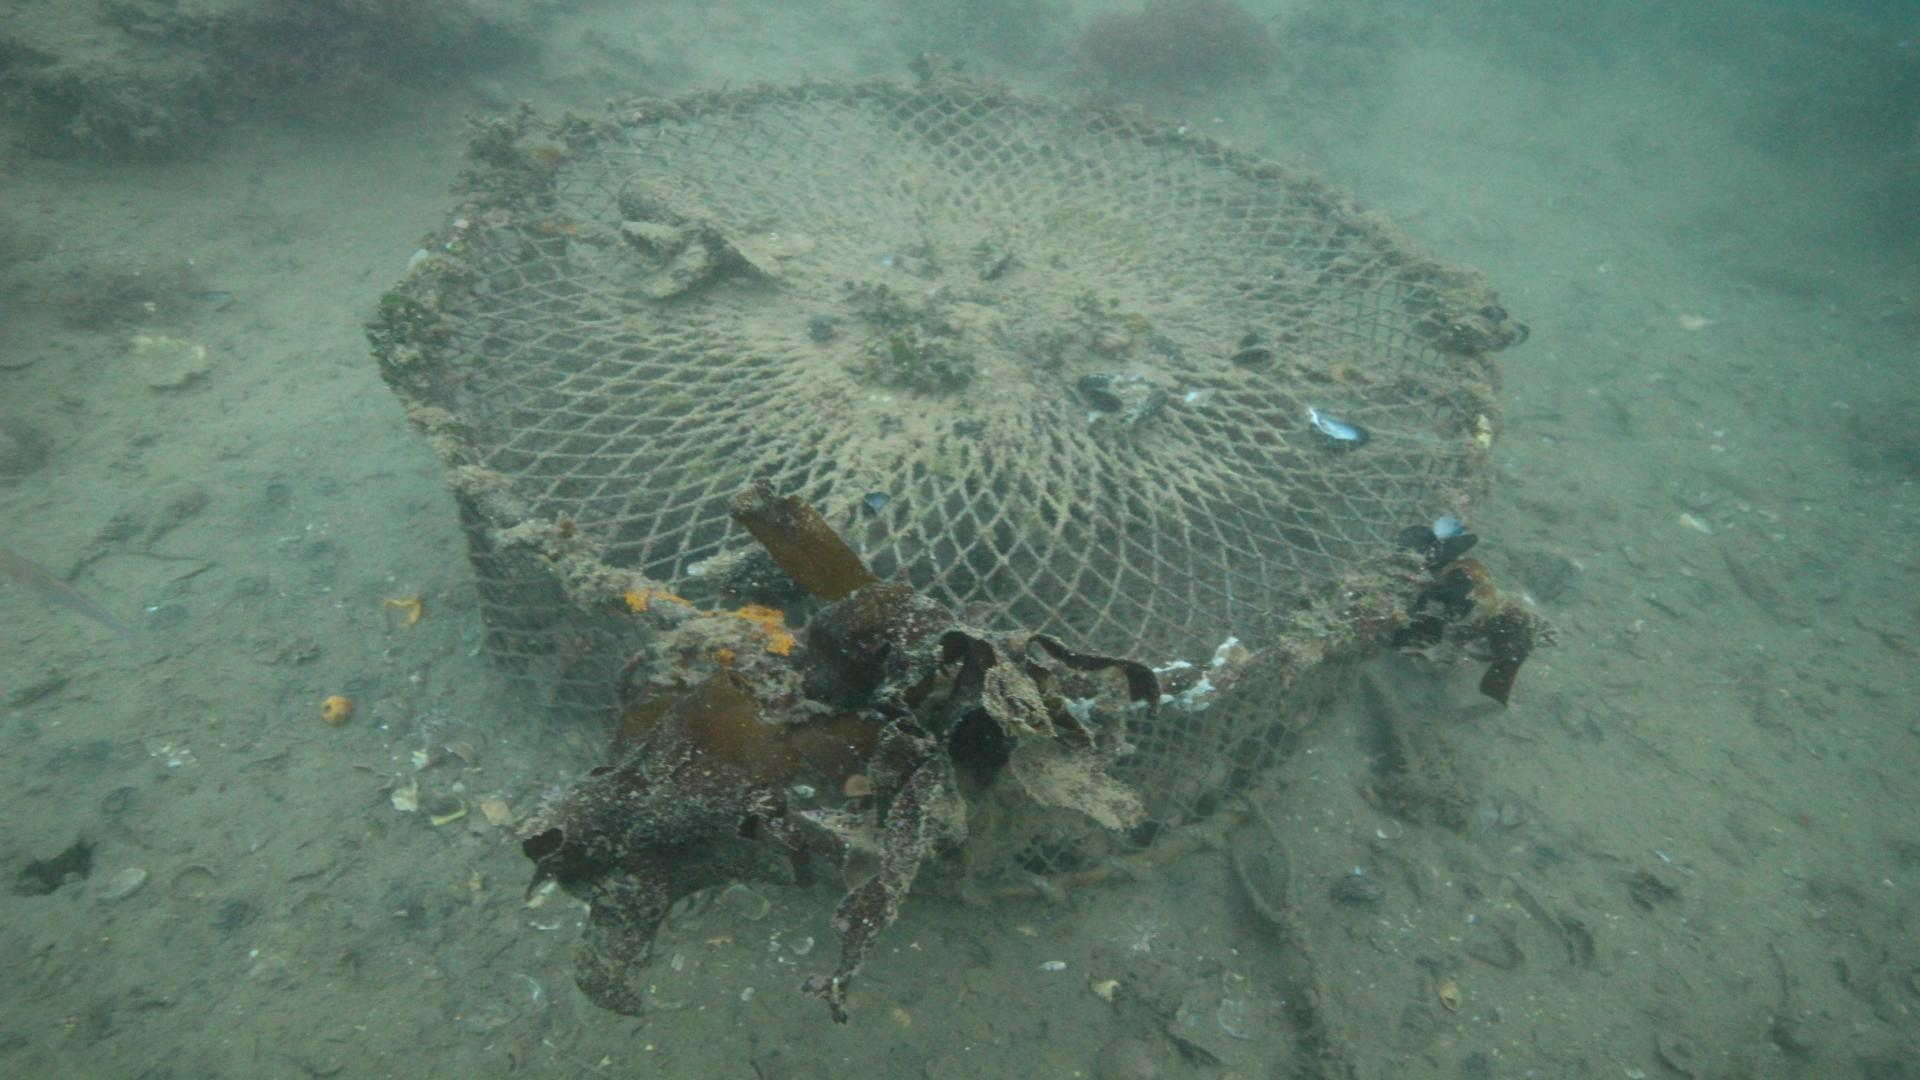circular fish trap: (411, 69, 1501, 899)
